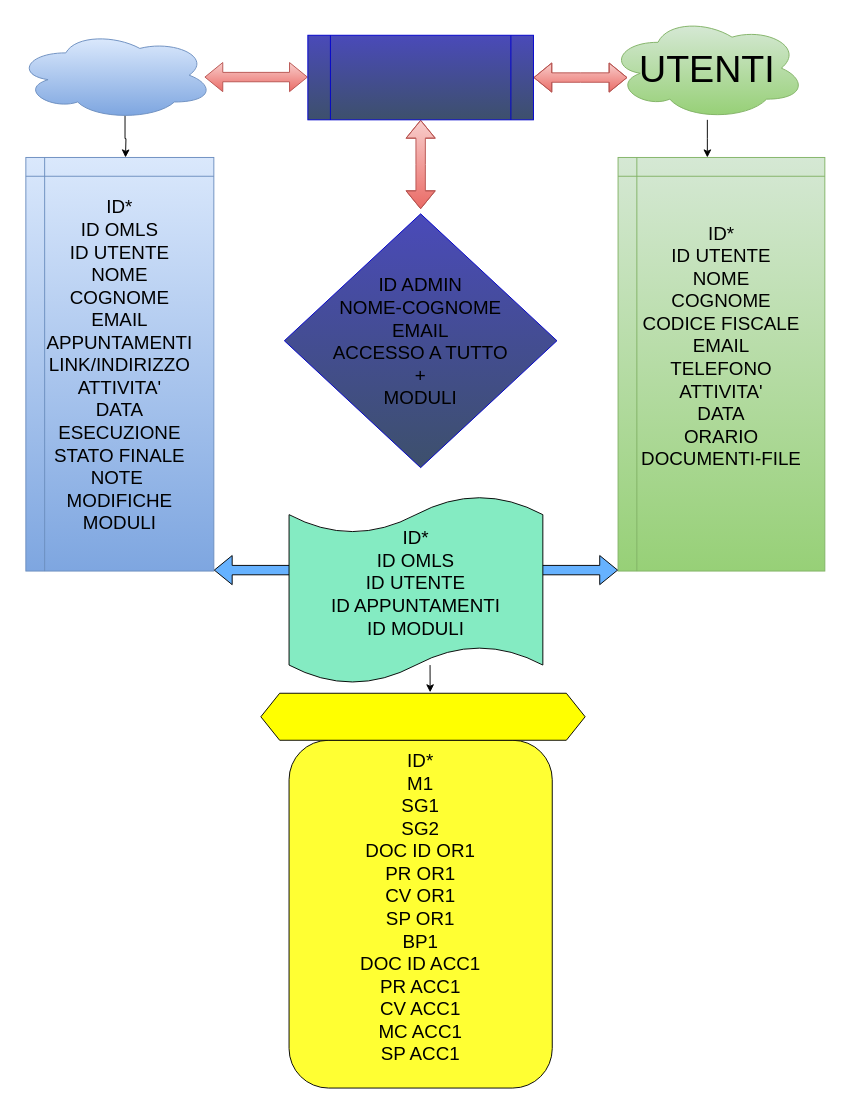
This 841x1105 diagram has some shape labels left out. The shapes that lost their labels are listed below. From the top down, each one's box as (x1, y1, x2, y2) in pixels, then its label:
(16, 30, 214, 120): OMLS
(307, 34, 533, 120): ADMIN
(260, 692, 585, 740): MODULI
